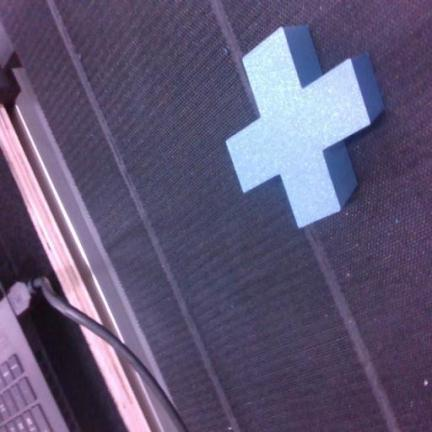cross: (227, 27, 383, 226)
